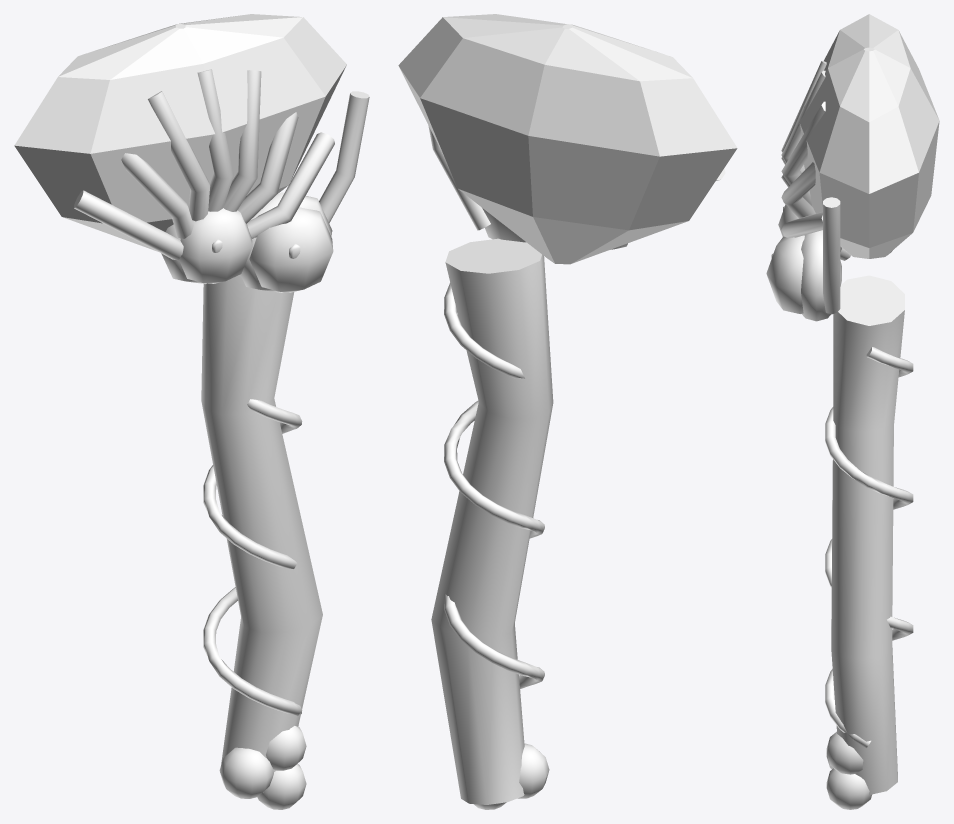
Rendered from axe.obj.
3 renders of one model, left to right at view 1: azimuth 30°, elevation 25°; view 2: azimuth 150°, elevation 25°; view 3: azimuth 270°, elevation 25°, orthographic. The views are drawn at different scales.
Parts seen in each view (by area): view 1: head, handle, ornaments; view 2: head, handle, ornaments; view 3: handle, head, ornaments.
Boxes of the visible parts, <box> form: head: <box>14,14,346,283</box>; handle: <box>201,275,322,809</box>; ornaments: <box>240,91,369,292</box>; head: <box>398,14,737,264</box>; handle: <box>431,238,553,809</box>; ornaments: <box>428,125,525,242</box>; handle: <box>825,275,913,809</box>; head: <box>778,14,939,260</box>; ornaments: <box>766,197,841,321</box>.
Bounding box in the file's own units: 0.3856 × 0.8792 × 0.1918.
